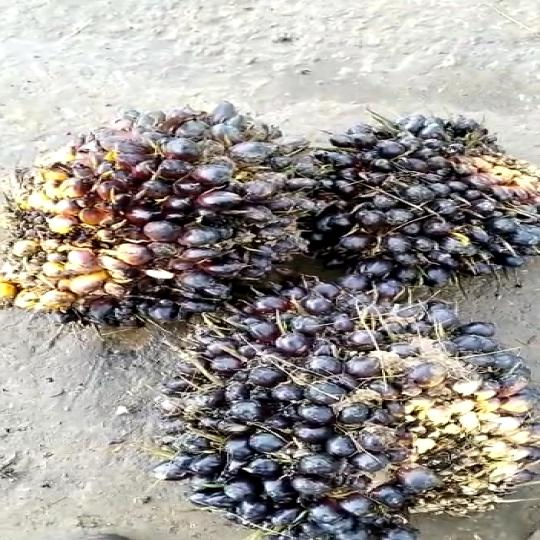mentah: (164, 280, 540, 540), (0, 95, 336, 324), (303, 98, 540, 299)
